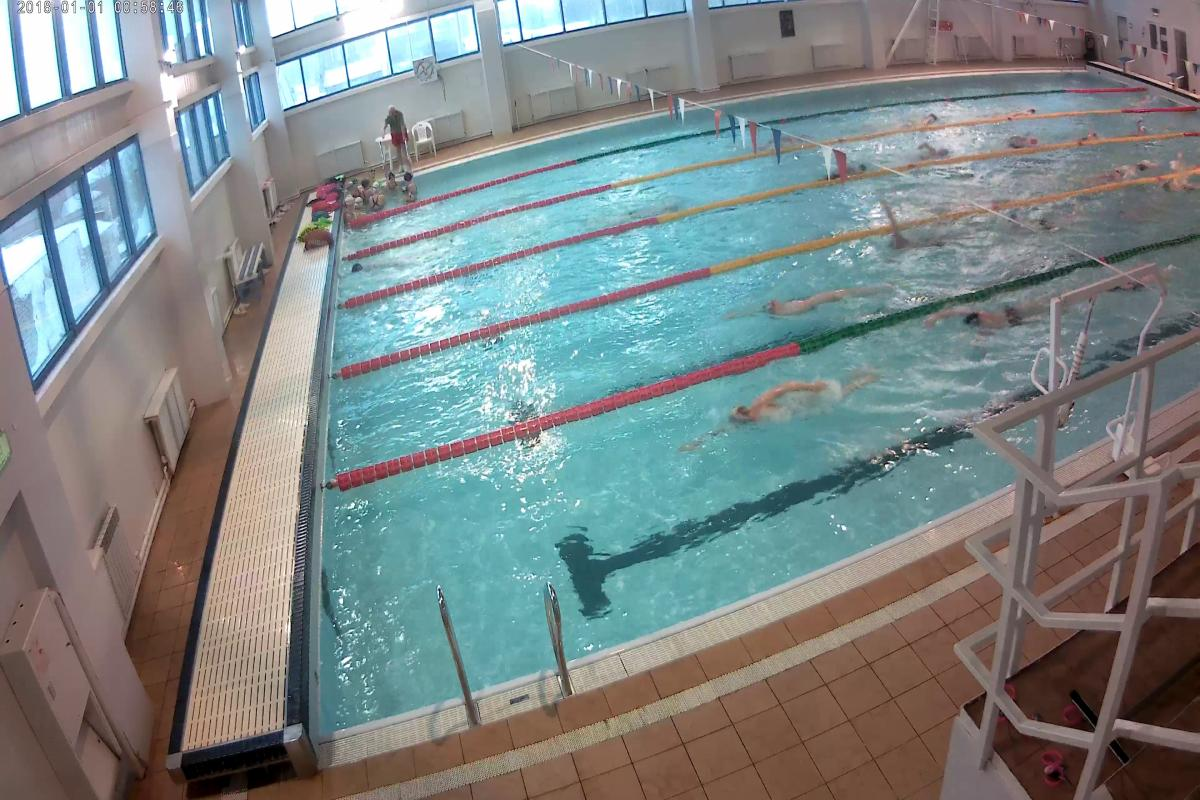swimmer: (740, 380, 889, 424), (943, 293, 1065, 335), (753, 280, 858, 321), (1013, 194, 1102, 232), (890, 221, 978, 245)
